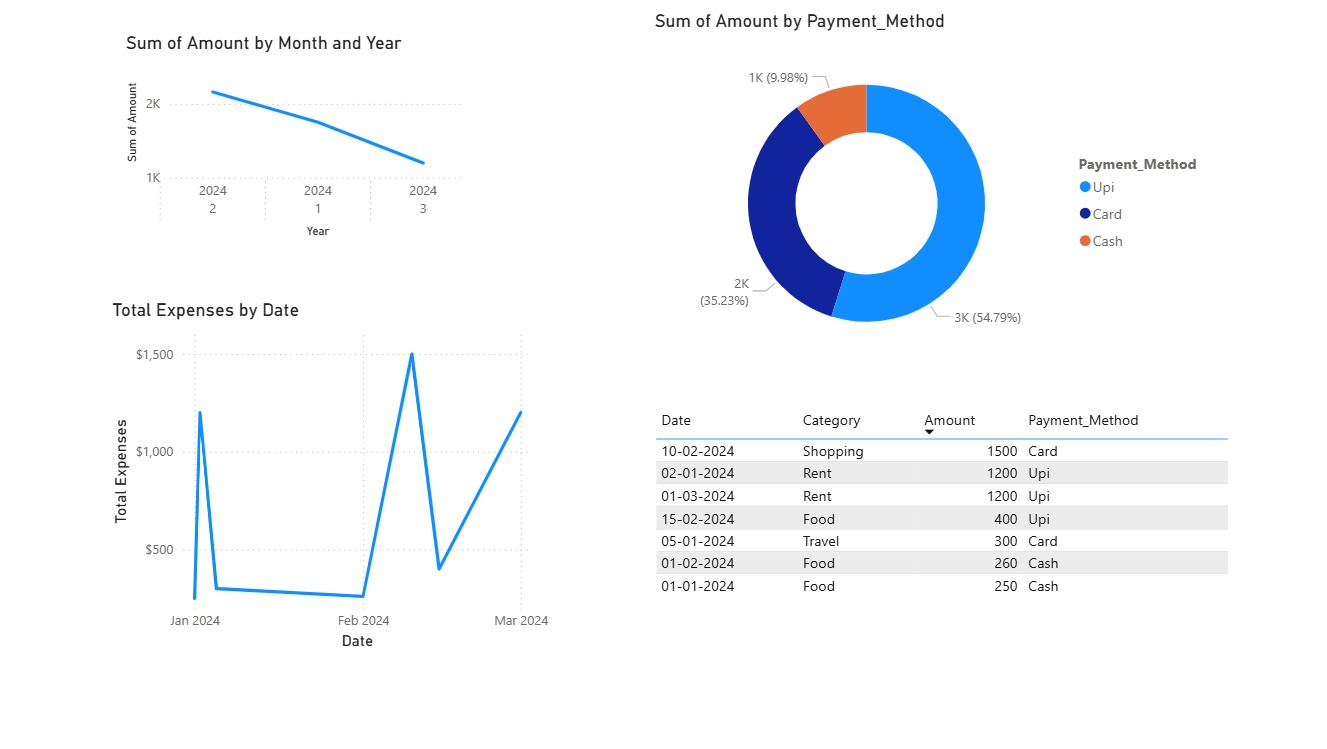

The dashboard page shown, as its layout file describes it:
{"tool":"powerbi","page":{"name":"Page 2","canvas":[1280,720],"ordinal":1},"visuals":[{"type":"lineChart","fields":{"Category":["public expenses.Month","public expenses.Year"],"Y":["Sum(public expenses.Amount)"]},"box":[148.3,40,326.2,197.2],"z":0},{"type":"donutChart","fields":{"Category":["public expenses.Payment_Method"],"Y":["Sum(public expenses.Amount)"]},"box":[640.6,19.3,530.9,341.1],"z":1000},{"type":"tableEx","fields":{"Values":["public expenses.Date","public expenses.Category","public expenses.Amount","public expenses.Payment_Method"]},"box":[640.6,385.5,554.6,311.4],"z":2000},{"type":"actionButton","box":[0,0,100,40],"z":3000},{"type":"lineChart","fields":{"Category":["public expenses.Date"],"Y":["public expenses.Total Expenses"]},"box":[134.9,289.2,416.7,332.2],"z":4000}]}

Visuals, with their boxes in screenshot pixels (x1, y1, x2, y2), scaled from the page's 1280x720 canvas onto the 1327x749 screenshot:
lineChart - public expenses.Month x public expenses.Year: Rect(154, 42, 492, 247)
donutChart - public expenses.Payment_Method x Sum(public expenses.Amount): Rect(664, 20, 1215, 375)
tableEx - public expenses.Date x public expenses.Category: Rect(664, 401, 1239, 725)
actionButton: Rect(0, 0, 104, 42)
lineChart - public expenses.Date x public expenses.Total Expenses: Rect(140, 301, 572, 646)
